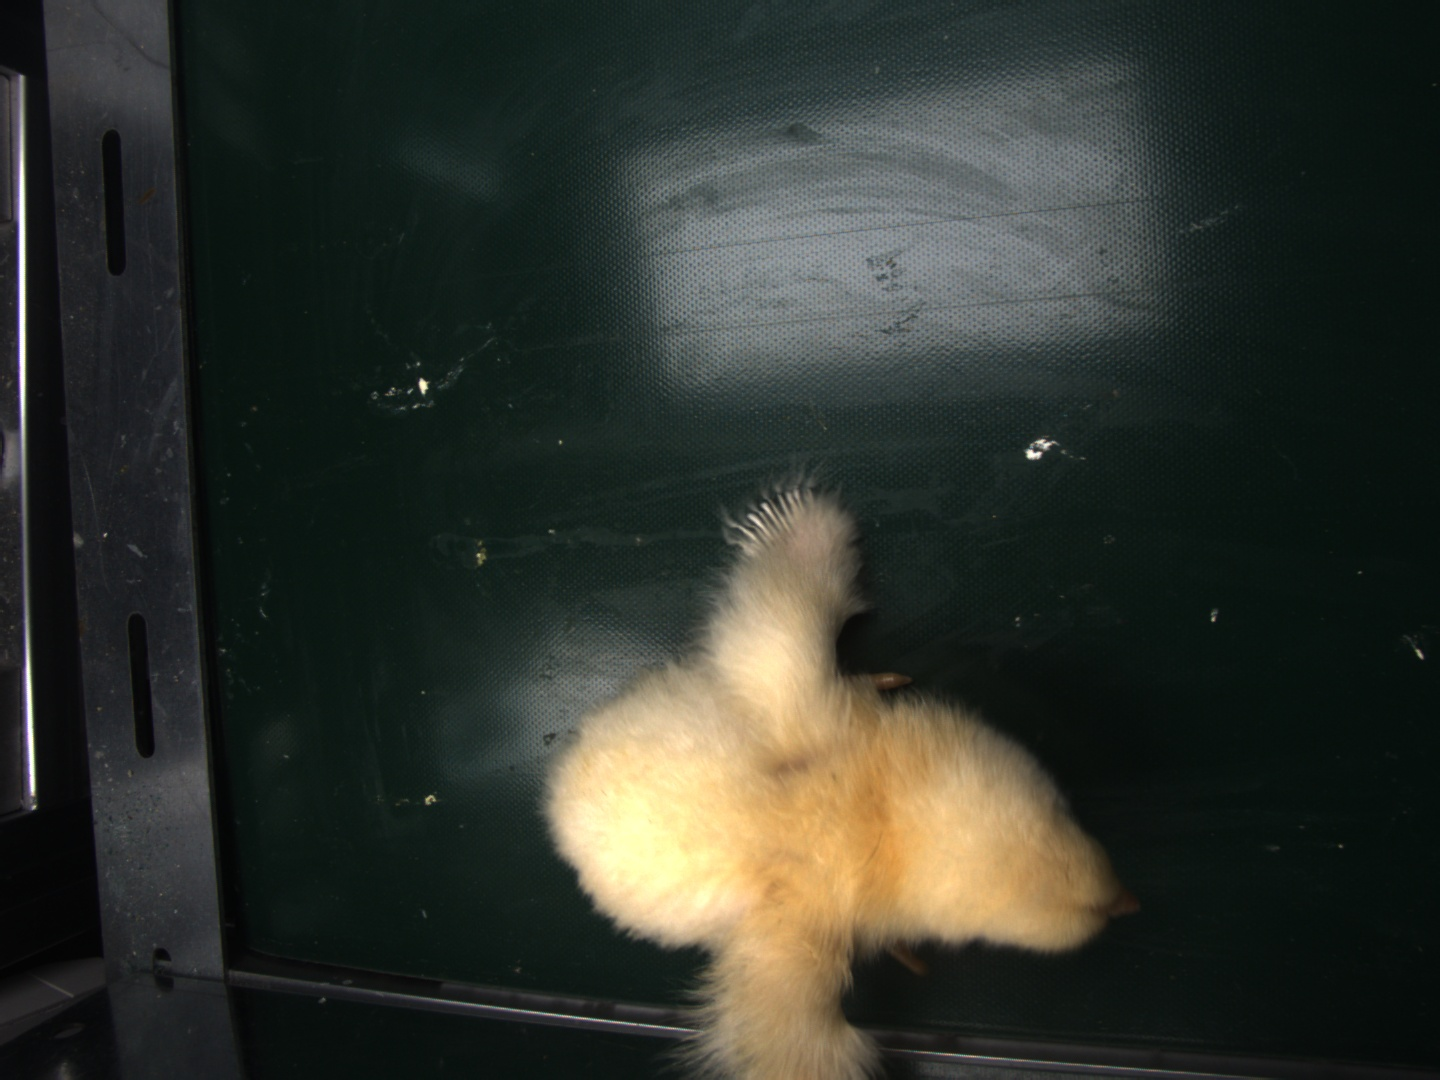male: (740, 492, 813, 555)
